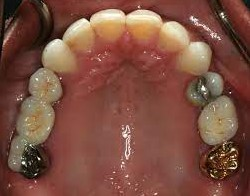UL1BC_decay: (187, 74, 225, 103)
UL1M_healthy: (201, 142, 241, 180)
UL2BC_healthy: (198, 98, 241, 144)
ULCI_healthy: (126, 10, 161, 43)
ULC_healthy: (179, 44, 213, 73)
ULLI_healthy: (161, 21, 189, 52)
UR1BC_decay: (29, 68, 63, 104)
UR1M_decay: (9, 138, 52, 177)
UR2BC_decay: (17, 95, 55, 143)
URCI_healthy: (92, 11, 125, 38)
URC_healthy: (42, 40, 80, 74)
URLI_healthy: (62, 18, 96, 50)
